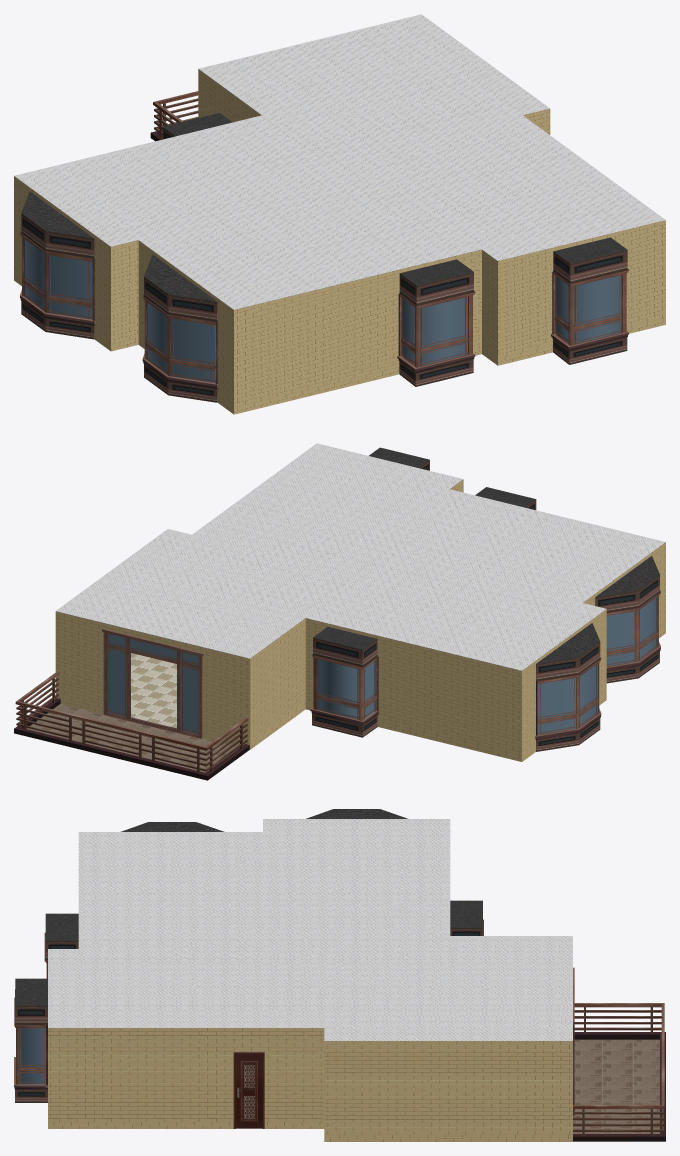
Rendered from house_0110500.FBX.
3 views of the same model, one above another, from view 1: azimuth 30°, elevation 25°; view 2: azimuth 150°, elevation 25°; view 3: azimuth 270°, elevation 25° (orthographic). The views are drawn at different scales.
Parts seen in each view (by area): view 1: house_0110500_roof_100_00, house_0110500_outwall_100_09, house_0110500_outwall_100_11, house_0110500_floor_102_00, house_0110500_floor_103_00, house_0110500_floor_104_00, house_0110500_floor_105_00, house_0110500_outwall_100_06, house_0110500_outwall_100_07, house_0110500_outwall_100_08, house_0110500_outwall_100_04, house_0110500_outwall_100_10 (+4 smaller); view 2: house_0110500_roof_100_00, house_0110500_outwall_100_05, house_0110500_floor_107_00, house_0110500_outwall_100_03, house_0110500_floor_103_00, house_0110500_floor_106_00, house_0110500_floor_102_00, house_0110500_outwall_101_03, house_0110500_outwall_100_04, house_0110500_floor_101_00, house_0110500_outwall_100_06, house_0110500_tcx_100_05 (+4 smaller); view 3: house_0110500_roof_100_00, house_0110500_outwall_100_00, house_0110500_outwall_100_02, house_0110500_floor_107_00, house_0110500_floor_105_00, house_0110500_outwall_101_00, house_0110500_tcx_100_02, house_0110500_tcx_100_00, house_0110500_floor_104_00, house_0110500_floor_106_00, house_0110500_floor_102_00, house_0110500_floor_103_00.
Part boxes in pixels (left/top/right/bottom): house_0110500_roof_100_00: left=14, top=14, right=665, bottom=309; house_0110500_outwall_100_09: left=234, top=249, right=481, bottom=407; house_0110500_outwall_100_11: left=498, top=220, right=665, bottom=358; house_0110500_floor_102_00: left=142, top=255, right=218, bottom=402; house_0110500_floor_103_00: left=20, top=191, right=95, bottom=339; house_0110500_floor_104_00: left=397, top=259, right=475, bottom=386; house_0110500_floor_105_00: left=551, top=237, right=629, bottom=364; house_0110500_outwall_100_06: left=14, top=176, right=110, bottom=343; house_0110500_outwall_100_07: left=111, top=240, right=138, bottom=344; house_0110500_outwall_100_08: left=138, top=240, right=233, bottom=406; house_0110500_outwall_100_04: left=198, top=69, right=261, bottom=122; house_0110500_outwall_100_10: left=482, top=250, right=497, bottom=358; house_0110500_roof_100_00: left=56, top=443, right=665, bottom=670; house_0110500_outwall_100_05: left=305, top=618, right=521, bottom=755; house_0110500_floor_107_00: left=14, top=671, right=249, bottom=780; house_0110500_outwall_100_03: left=55, top=611, right=250, bottom=743; house_0110500_floor_103_00: left=535, top=623, right=601, bottom=751; house_0110500_floor_106_00: left=310, top=626, right=379, bottom=737; house_0110500_floor_102_00: left=595, top=556, right=660, bottom=683; house_0110500_outwall_101_03: left=102, top=629, right=203, bottom=738; house_0110500_outwall_100_04: left=250, top=618, right=305, bottom=743; house_0110500_floor_101_00: left=131, top=653, right=176, bottom=728; house_0110500_outwall_100_06: left=522, top=609, right=606, bottom=755; house_0110500_tcx_100_05: left=305, top=703, right=521, bottom=761; house_0110500_roof_100_00: left=48, top=819, right=572, bottom=1040; house_0110500_outwall_100_00: left=48, top=1028, right=324, bottom=1121; house_0110500_outwall_100_02: left=324, top=1041, right=572, bottom=1134; house_0110500_floor_107_00: left=573, top=1003, right=665, bottom=1141; house_0110500_floor_105_00: left=14, top=978, right=47, bottom=1102; house_0110500_outwall_101_00: left=233, top=1052, right=264, bottom=1128; house_0110500_tcx_100_02: left=324, top=1135, right=572, bottom=1141; house_0110500_tcx_100_00: left=48, top=1122, right=324, bottom=1128; house_0110500_floor_104_00: left=44, top=913, right=78, bottom=978; house_0110500_floor_106_00: left=450, top=900, right=483, bottom=935; house_0110500_floor_102_00: left=121, top=822, right=224, bottom=831; house_0110500_floor_103_00: left=306, top=809, right=407, bottom=818.
Size of the model in its own units: 1455 by 292 by 1699.
Materials: 66 (66 with a texture image).
